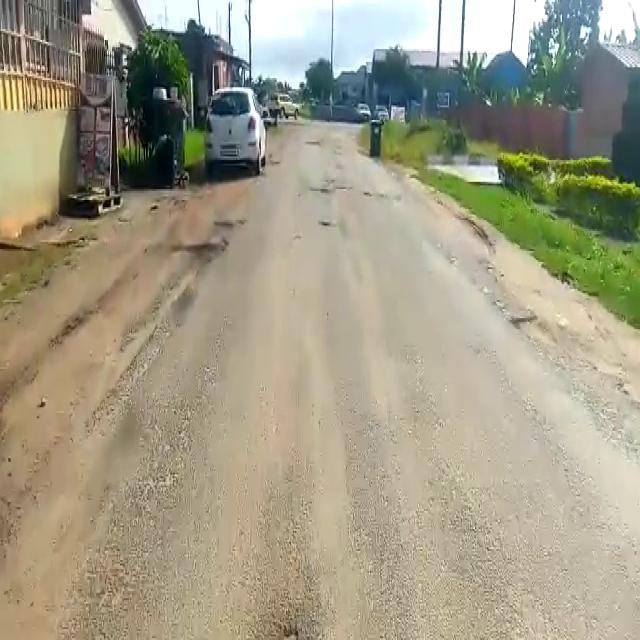Pothole: (511, 312, 548, 338)
